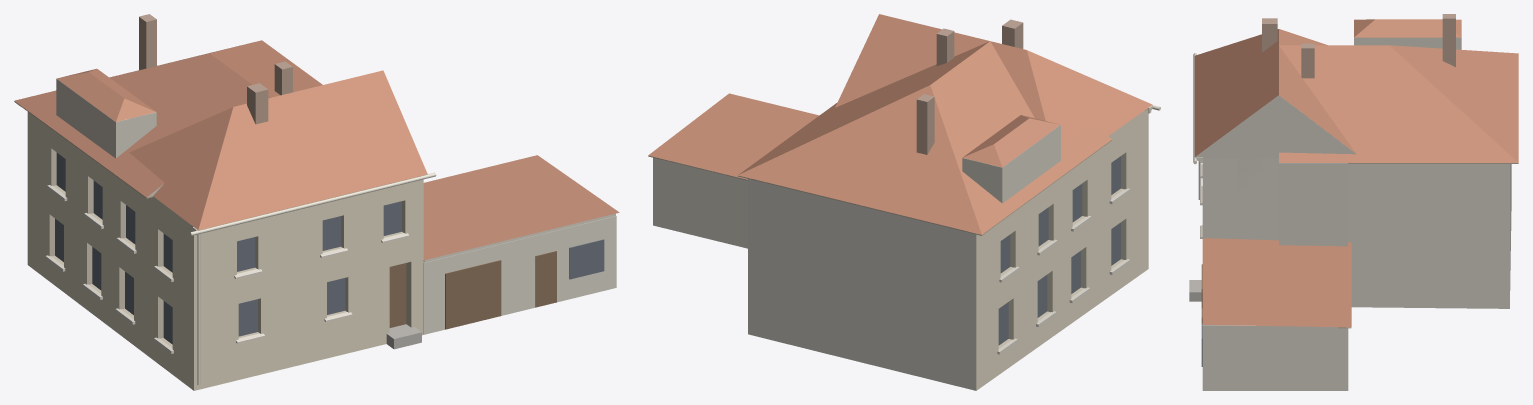
The picture shows the model from 3 angles, left to right: view 1: azimuth 30°, elevation 25°; view 2: azimuth 150°, elevation 25°; view 3: azimuth 270°, elevation 25°; orthographic projection. The views are drawn at different scales.
Parts seen in each view (by area): view 1: CP_1818_Masonry, CP_1818_Roof, CP_1818_WingRoof_Rear_WE, CP_1818_WingRoof_Annex_N_Roof, CP_1818_Annex_N_Wall, CP_1818_AtticClosure, CP_1818_Annex_N_Gate, CP_1818_WingRoof_Dormer_S_Roof, CP_1818_Annex_N_Shopwin, CP_1818_Annex_N_Door, CP_1818_Gutter, CP_1818_Chimney_2 (+5 smaller); view 2: CP_1818_Masonry, CP_1818_WingRoof_Rear_WE, CP_1818_Roof, CP_1818_WingRoof_Annex_N_Roof, CP_1818_Annex_N_Wall, CP_1818_AtticClosure, CP_1818_WingRoof_Dormer_S_Roof, CP_1818_Chimney_2, CP_1818_Chimney_1, CP_1818_Chimney_0; view 3: CP_1818_Masonry, CP_1818_WingRoof_Rear_WE, CP_1818_WingRoof_Annex_N_Roof, CP_1818_AtticClosure_1, CP_1818_Annex_N_Wall, CP_1818_Roof, CP_1818_Gable_R_gable, CP_1818_WingRoof_Dormer_S_Roof, CP_1818_AtticClosure, CP_1818_Chimney_2, CP_1818_Chimney_1, CP_1818_Chimney_0.
Part boxes in pixels (box(x1,y1,x2,y2)): CP_1818_Masonry: box(27, 112, 423, 390); CP_1818_Roof: box(129, 70, 427, 230); CP_1818_WingRoof_Rear_WE: box(14, 40, 322, 197); CP_1818_WingRoof_Annex_N_Roof: box(423, 155, 619, 260); CP_1818_Annex_N_Wall: box(423, 216, 616, 334); CP_1818_AtticClosure: box(56, 79, 161, 194); CP_1818_Annex_N_Gate: box(445, 260, 501, 329); CP_1818_WingRoof_Dormer_S_Roof: box(56, 68, 155, 121); CP_1818_Annex_N_Shopwin: box(569, 239, 604, 279); CP_1818_Annex_N_Door: box(535, 251, 556, 307); CP_1818_Gutter: box(189, 172, 436, 235); CP_1818_Chimney_2: box(139, 14, 156, 70); CP_1818_Masonry: box(748, 109, 1148, 390); CP_1818_WingRoof_Rear_WE: box(738, 41, 1111, 234); CP_1818_Roof: box(835, 14, 1152, 145); CP_1818_WingRoof_Annex_N_Roof: box(648, 93, 819, 179); CP_1818_Annex_N_Wall: box(653, 157, 747, 248); CP_1818_AtticClosure: box(962, 125, 1060, 203); CP_1818_WingRoof_Dormer_S_Roof: box(962, 115, 1060, 167); CP_1818_Chimney_2: box(916, 94, 934, 154); CP_1818_Chimney_1: box(936, 28, 954, 65); CP_1818_Chimney_0: box(1002, 19, 1023, 48); CP_1818_Masonry: box(1202, 157, 1511, 308); CP_1818_WingRoof_Rear_WE: box(1279, 45, 1518, 162); CP_1818_WingRoof_Annex_N_Roof: box(1202, 238, 1351, 327); CP_1818_AtticClosure_1: box(1203, 95, 1347, 325); CP_1818_Annex_N_Wall: box(1202, 325, 1348, 390); CP_1818_Roof: box(1194, 29, 1356, 156); CP_1818_Gable_R_gable: box(1195, 95, 1356, 158); CP_1818_WingRoof_Dormer_S_Roof: box(1354, 19, 1461, 37); CP_1818_AtticClosure: box(1354, 37, 1461, 49); CP_1818_Chimney_2: box(1442, 14, 1455, 67); CP_1818_Chimney_1: box(1301, 43, 1314, 78); CP_1818_Chimney_0: box(1262, 18, 1277, 52).
Bounding box in the file's own units: 20.21 × 11.2 × 14.7.
